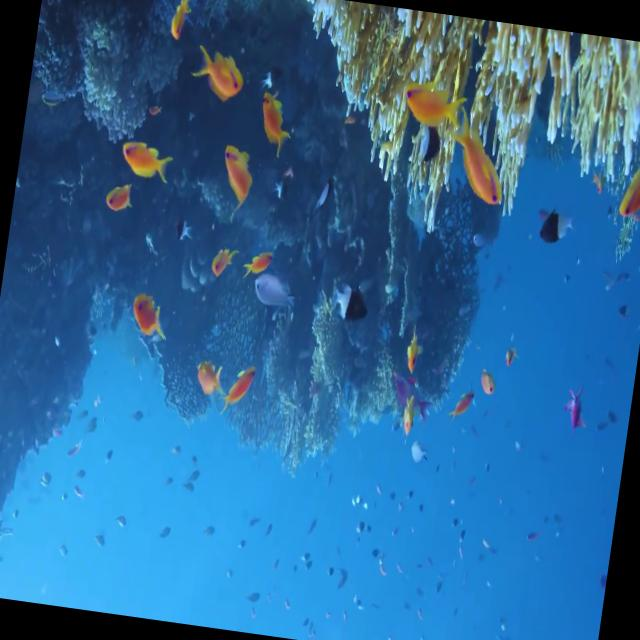fish: (444, 118, 512, 208), (193, 36, 250, 102), (403, 78, 466, 134), (256, 85, 296, 157), (118, 138, 174, 186), (218, 143, 256, 203), (326, 280, 372, 329), (129, 296, 170, 344), (220, 363, 256, 417), (252, 276, 300, 316), (536, 202, 576, 250), (620, 131, 640, 219), (102, 178, 136, 217), (194, 359, 228, 396), (242, 248, 272, 284), (210, 246, 240, 282), (169, 0, 193, 43), (402, 326, 422, 376), (477, 366, 498, 396)
